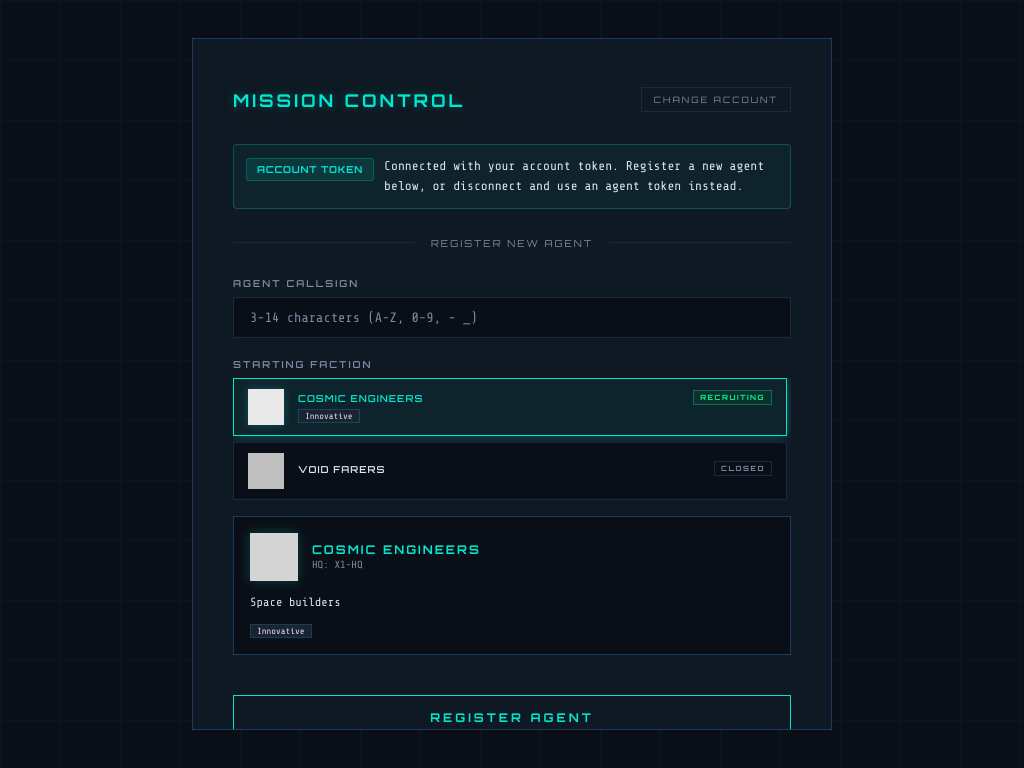
Test: AgentScreen › shows error on failed registration
Type "TAKEN" into the field labelled "Agent Callsign" at (512, 317), box [233,297,791,338]
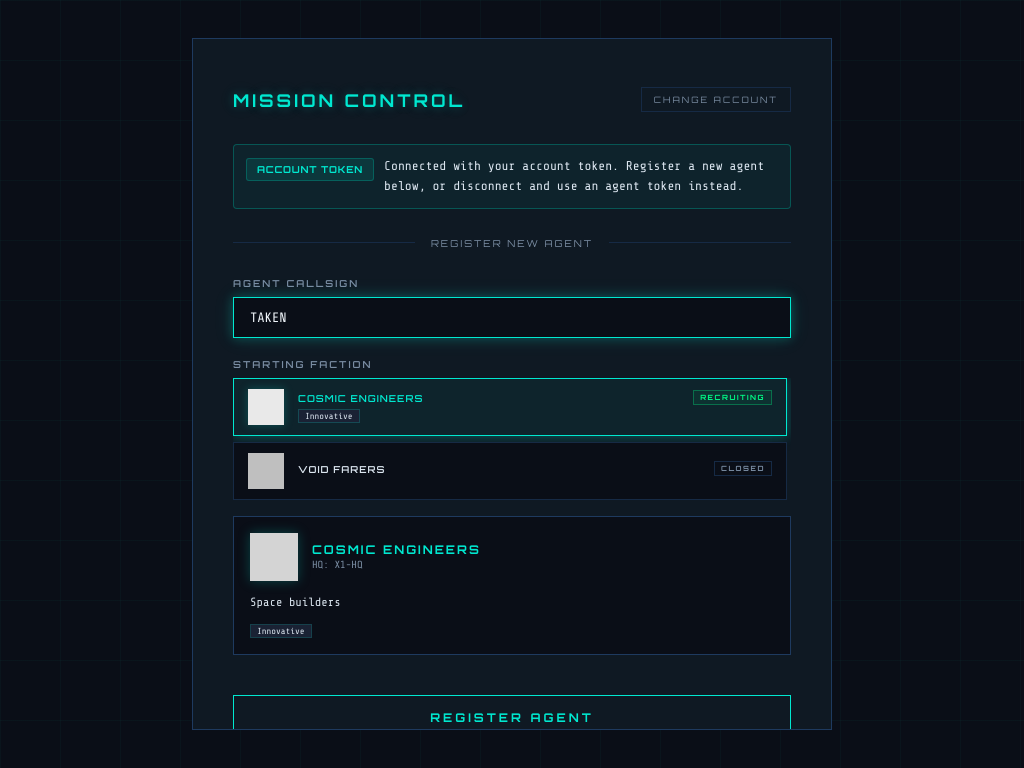
Click the button "Register Agent" at (512, 718), box [233,695,791,740]
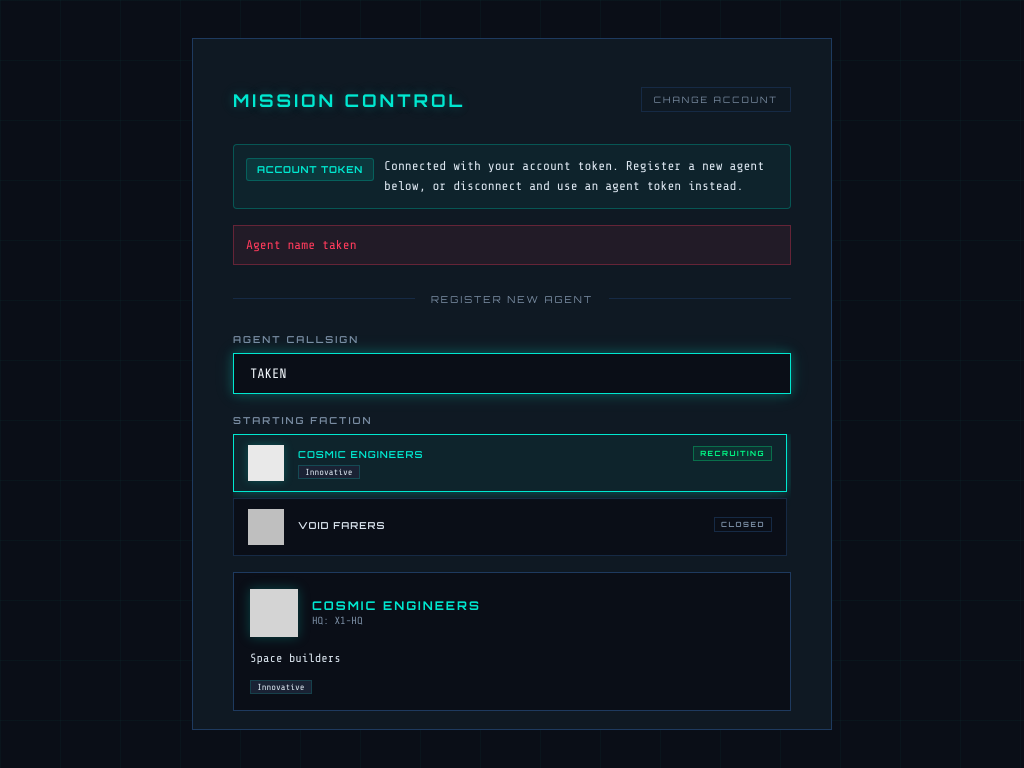
expect the text "Agent name taken" is shown: met, box [233,225,791,265]
